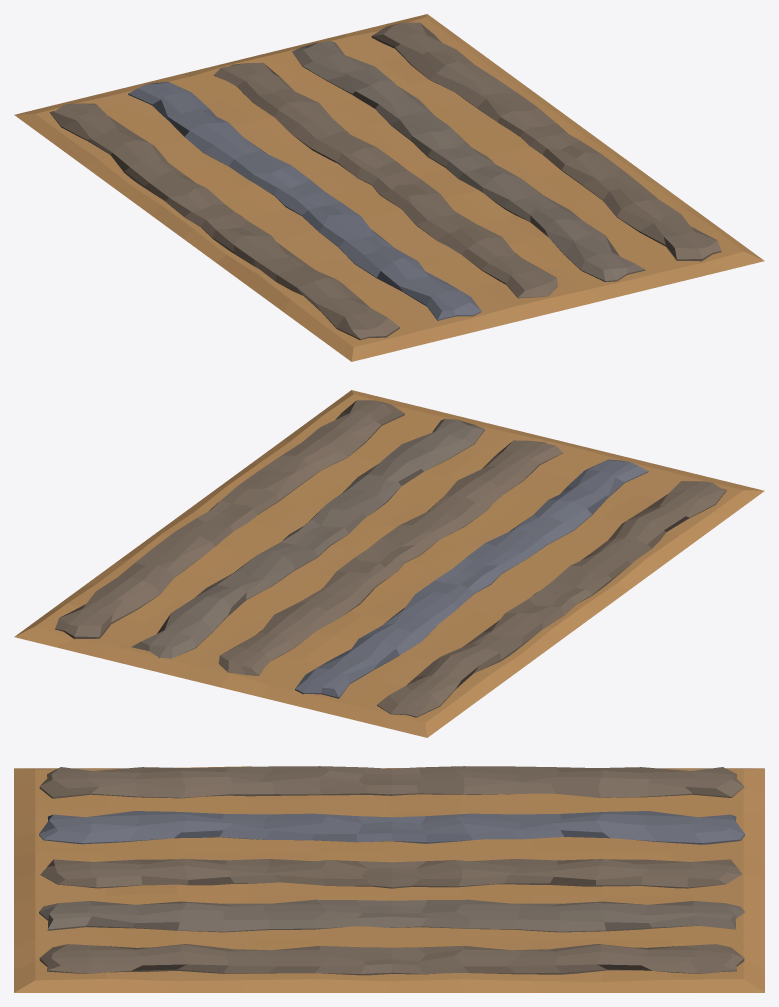
File: field_c.gltf
3 renders of one model, top to bottom at view 1: azimuth 30°, elevation 25°; view 2: azimuth 150°, elevation 25°; view 3: azimuth 270°, elevation 25°, orthographic. The views are drawn at different scales.
Parts seen in each view (by area): view 1: field_c001; view 2: field_c001; view 3: field_c001.
Part boxes in pixels (x1,y1,x2,y2): field_c001: (14, 14, 764, 361); field_c001: (14, 390, 764, 737); field_c001: (14, 766, 764, 992).
Size of the model in its own units: 5.01 by 0.1892 by 7.09.
1 material, 1 textured.
